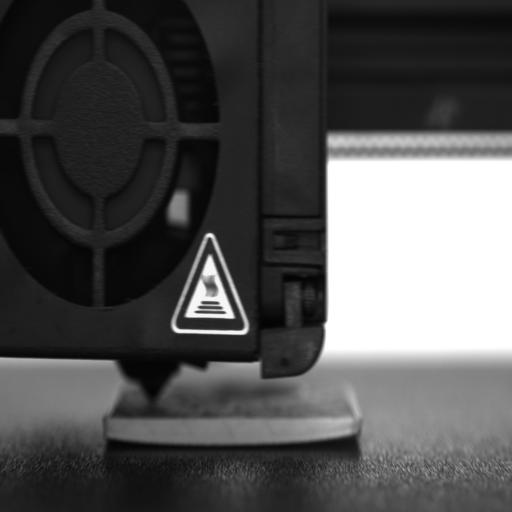warp: (103, 422, 157, 450), (307, 422, 365, 448)
